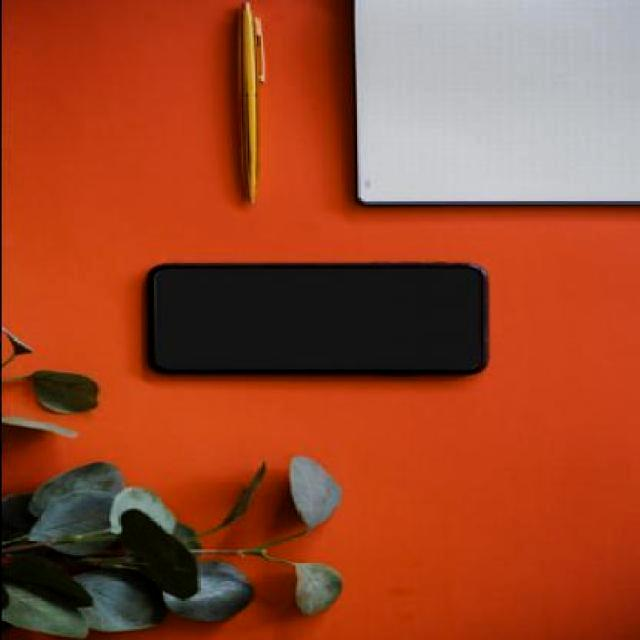phone: (150, 263, 487, 374)
